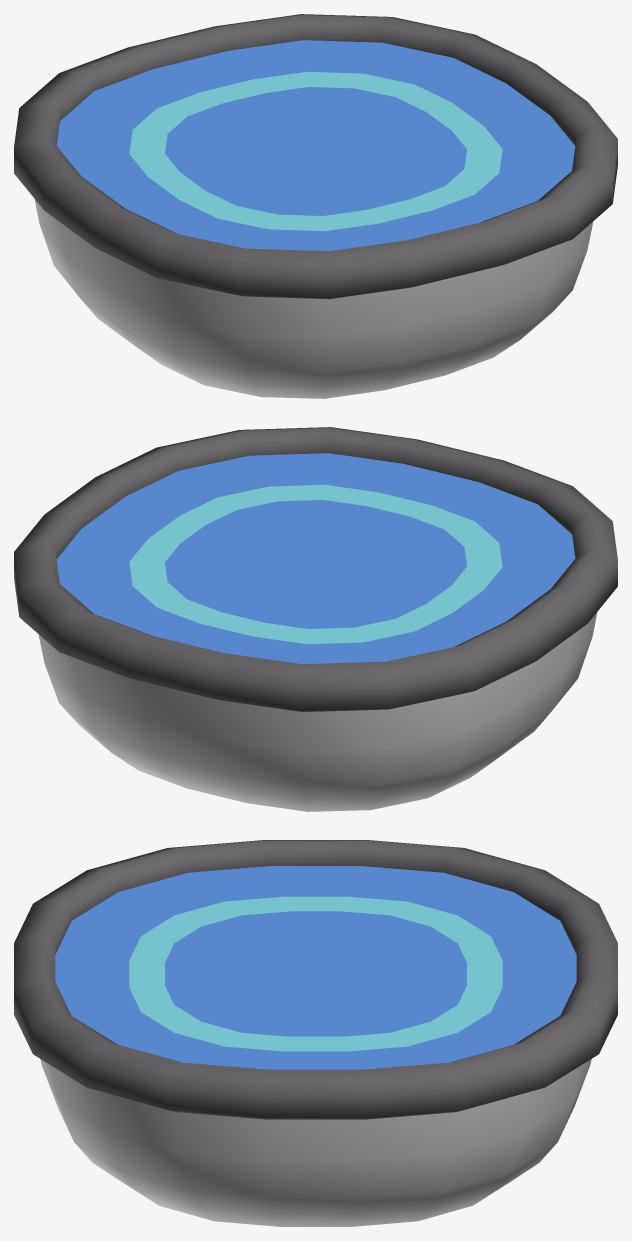
File: Tower_Platform_normal_1.fbx
3 views of the same model, one above another, from view 1: azimuth 30°, elevation 25°; view 2: azimuth 150°, elevation 25°; view 3: azimuth 270°, elevation 25° (orthographic). The views are drawn at different scales.
Visible parts, largest first — view 1: Cube.063; view 2: Cube.063; view 3: Cube.063.
Boxes of the visible parts, <box> form: Cube.063: <box>14,14,617,398</box>; Cube.063: <box>14,427,617,811</box>; Cube.063: <box>14,840,617,1226</box>.
Size of the model in its own units: 281 by 105 by 286.
